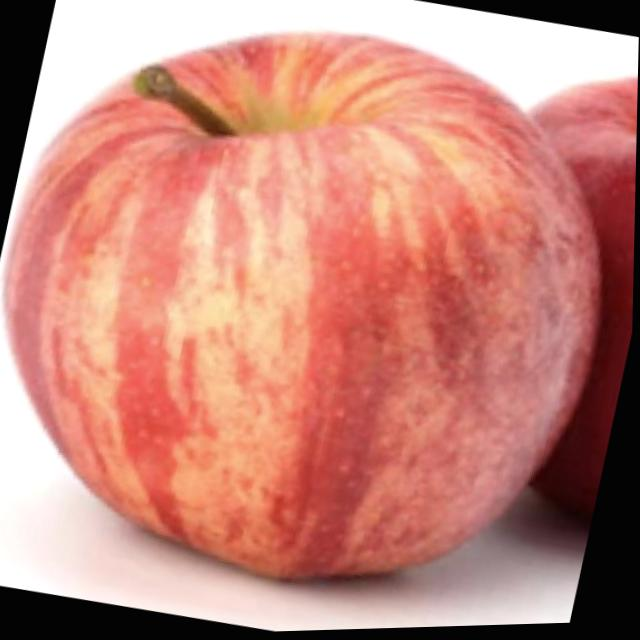Apple: (0, 0, 640, 639), (449, 25, 639, 533)
